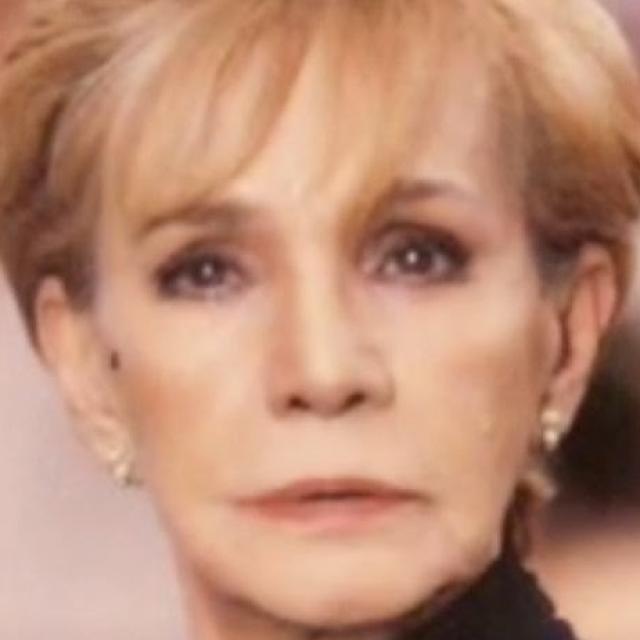Depress: (92, 43, 554, 634)
